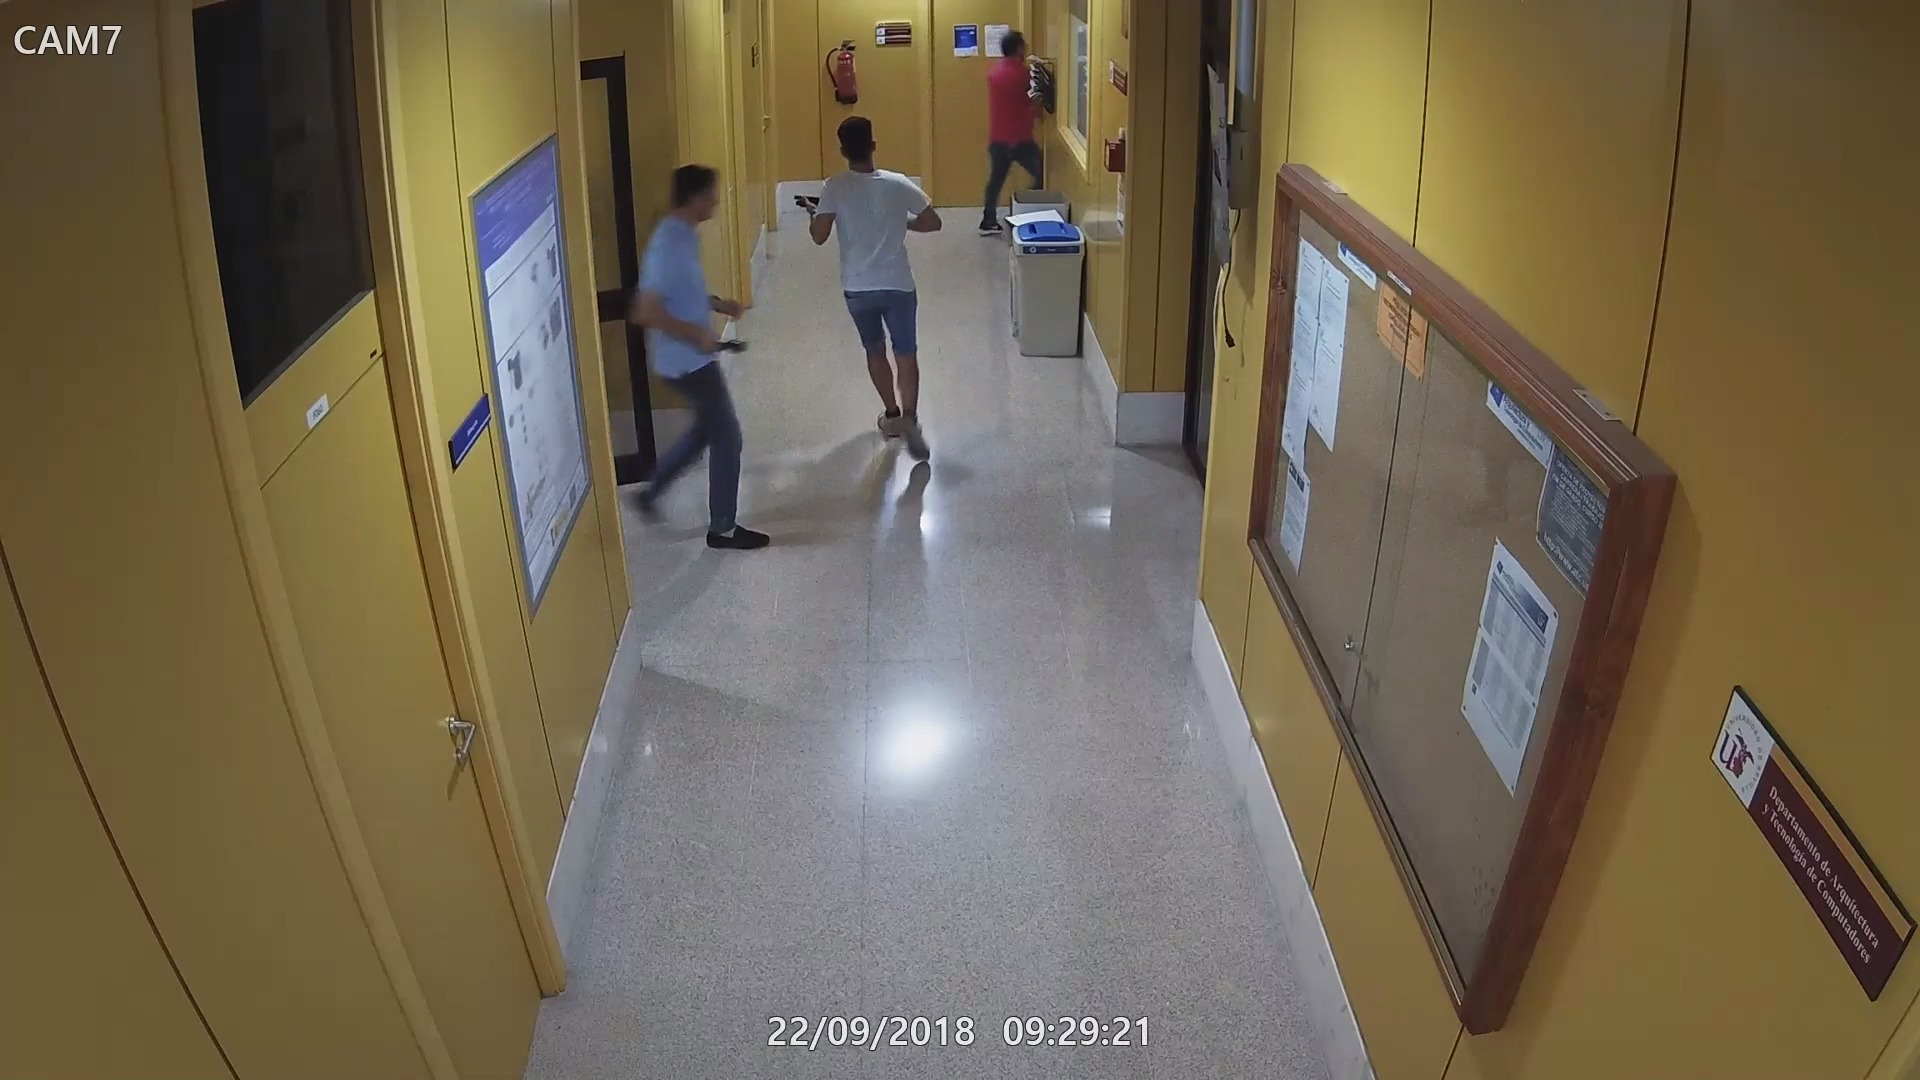Short_rifle: (791, 189, 823, 212)
